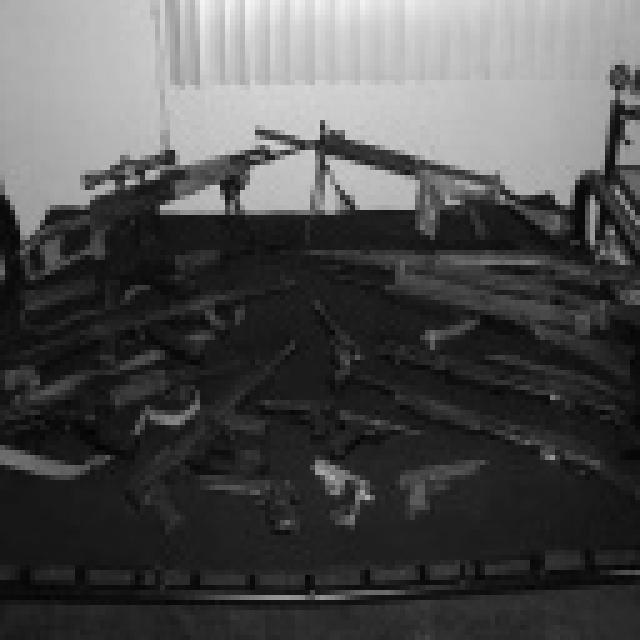Rifle: (246, 86, 566, 261), (329, 336, 640, 516), (0, 110, 300, 275), (354, 276, 640, 438), (8, 298, 343, 378), (0, 238, 309, 319), (91, 417, 231, 559), (193, 442, 314, 552), (396, 422, 492, 513), (255, 364, 355, 450), (298, 436, 380, 527)
